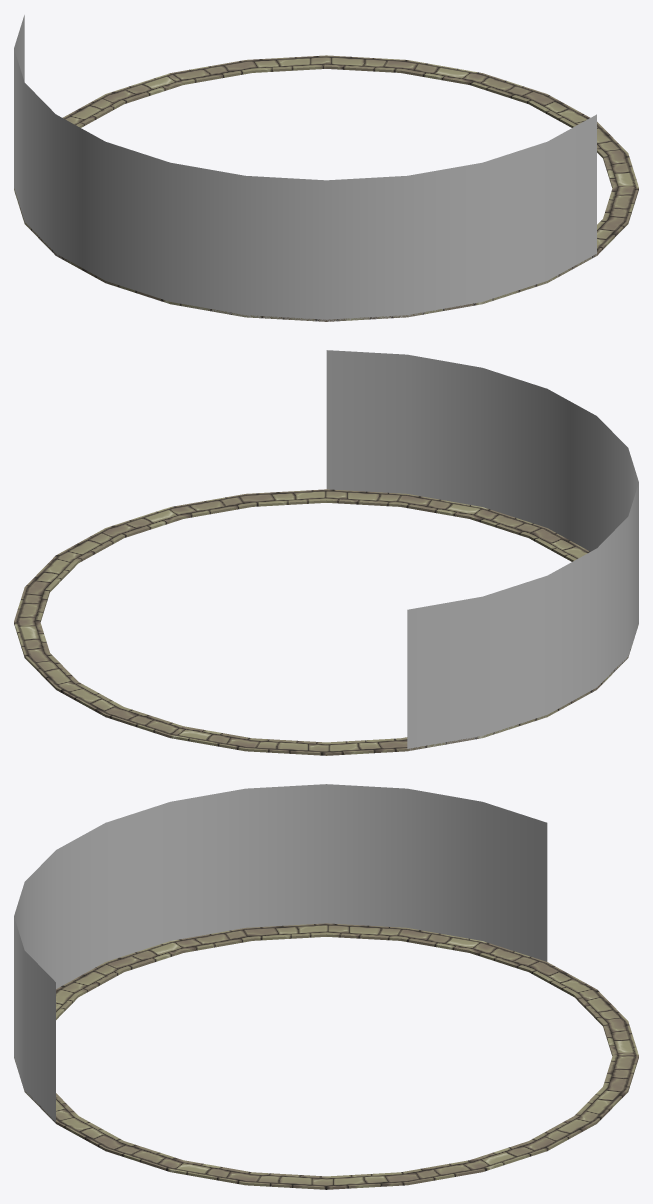
The model's file is Hub_Walls_01.FBX.
3 views of the same model, one above another, from view 1: azimuth 30°, elevation 25°; view 2: azimuth 150°, elevation 25°; view 3: azimuth 270°, elevation 25° (orthographic).
Visible parts, largest first — view 1: Hub_Walls_01; view 2: Hub_Walls_01; view 3: Hub_Walls_01.
Boxes of the visible parts, box(x1,y1,x2,y2) form: Hub_Walls_01: box(14, 15, 638, 321); Hub_Walls_01: box(14, 350, 638, 755); Hub_Walls_01: box(14, 784, 638, 1189).
Size of the model in its own units: 24 by 6 by 24.
